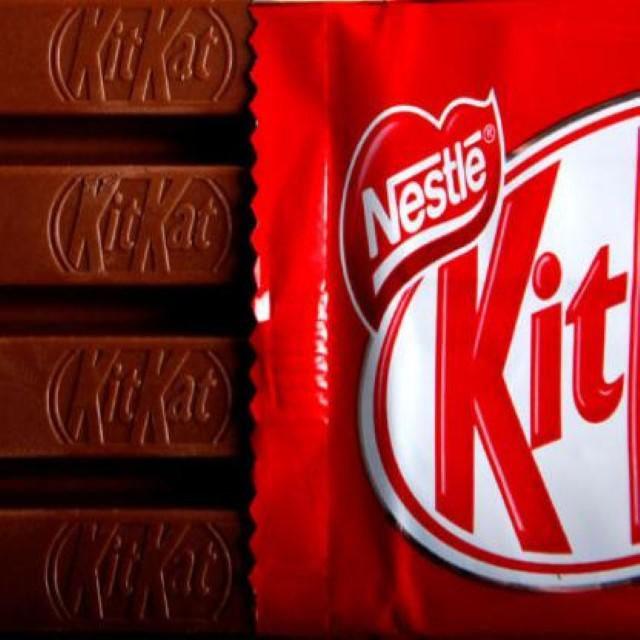kitkat_chocolate: (248, 18, 640, 640)
